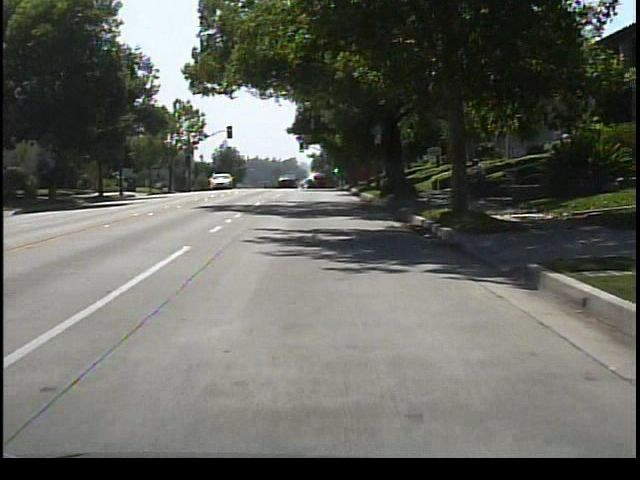person: (466, 154, 491, 199)
